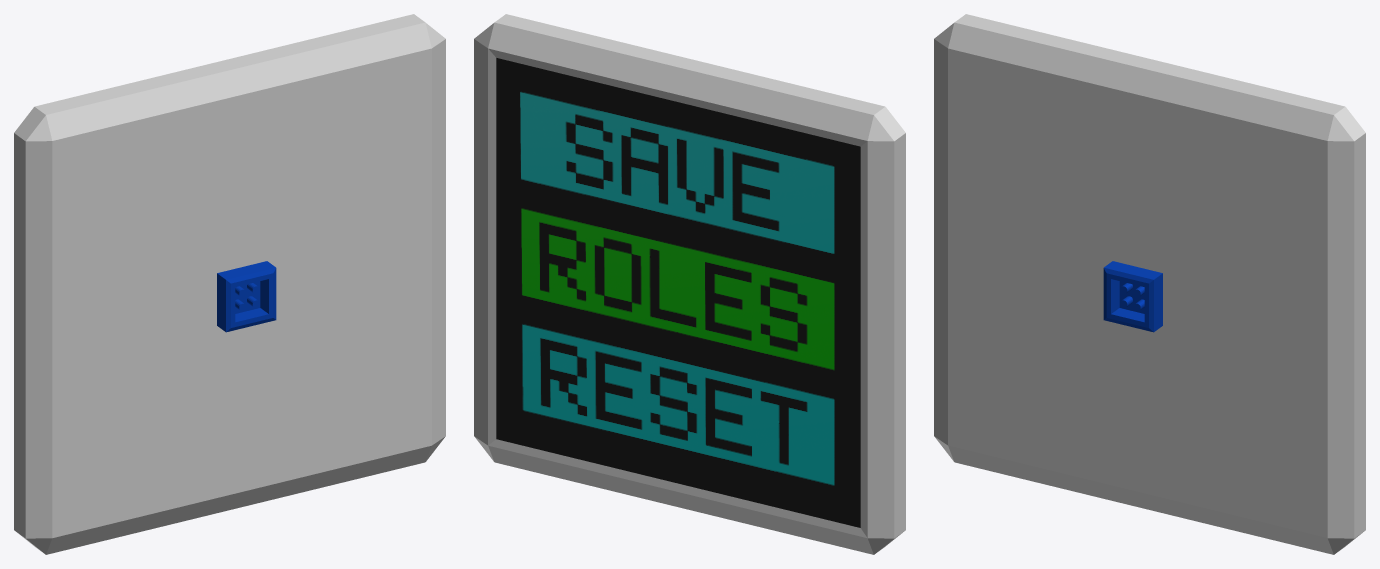
Rendered from OwnerPad.gltf.
3 views of the same model, side by side, from view 1: azimuth 30°, elevation 25°; view 2: azimuth 150°, elevation 25°; view 3: azimuth 330°, elevation 25° (orthographic).
Visible parts, largest first — view 1: base; view 2: base; view 3: base.
Part boxes in pixels (bbox=[...]): base: bbox=[14, 14, 445, 554]; base: bbox=[474, 14, 905, 554]; base: bbox=[934, 14, 1365, 554].
Size of the model in its own units: 0.5 by 0.5 by 0.0706.
3 materials, 1 textured.
